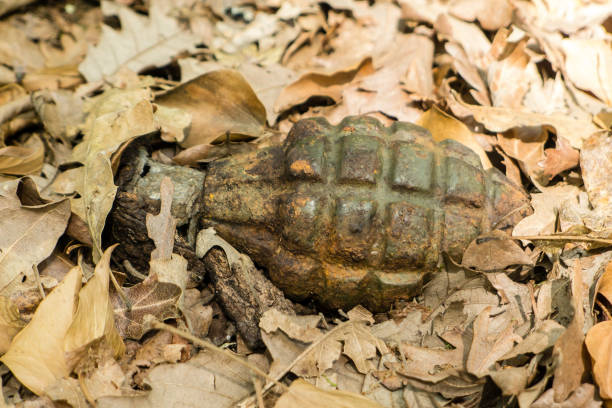e1: (116, 117, 534, 303)
